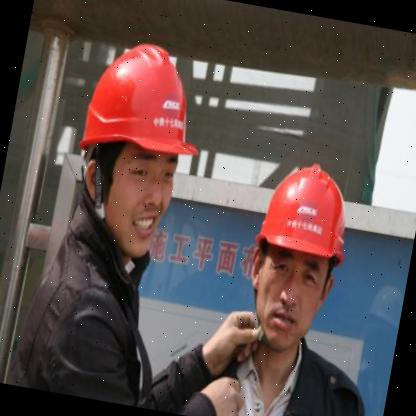capacete: (50, 15, 226, 292), (220, 129, 374, 374)
